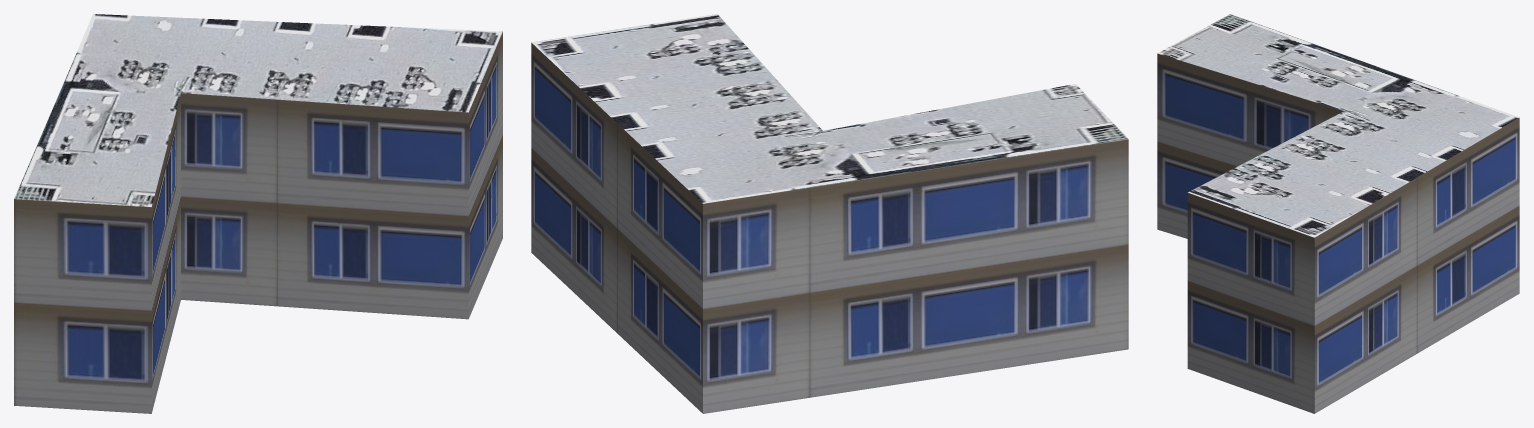
The model's file is ResTex__1085.fbx.
The picture shows the model from 3 angles, left to right: view 1: azimuth 30°, elevation 25°; view 2: azimuth 150°, elevation 25°; view 3: azimuth 270°, elevation 25°; orthographic projection. The views are drawn at different scales.
Visible parts, largest first — view 1: CityEngineMaterial_23_m, CityEngineMaterial_8_m; view 2: CityEngineMaterial_23_m, CityEngineMaterial_8_m; view 3: CityEngineMaterial_23_m, CityEngineMaterial_8_m.
Boxes of the visible parts, x1,y1,x2,y2 form: CityEngineMaterial_23_m: [14, 32, 502, 413]; CityEngineMaterial_8_m: [14, 14, 502, 206]; CityEngineMaterial_23_m: [531, 43, 1128, 413]; CityEngineMaterial_8_m: [531, 14, 1128, 203]; CityEngineMaterial_23_m: [1157, 53, 1519, 413]; CityEngineMaterial_8_m: [1158, 14, 1519, 237].
Size of the model in its own units: 16.34 by 6 by 11.18.
2 materials, 2 textured.
